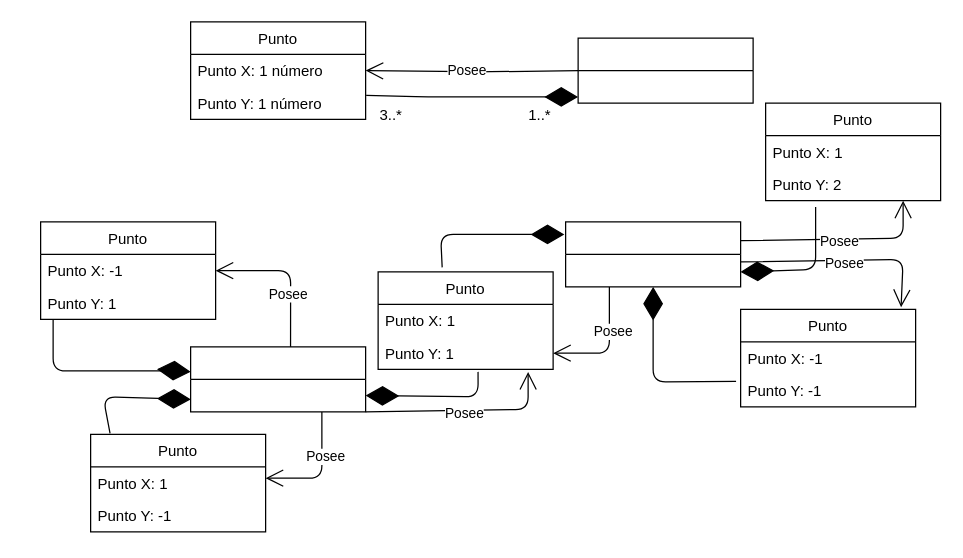
Image size: 963x558. Some labels were removed from this diagram. Each missing label, with the box of its shape:
Polígono: (577, 37, 753, 103)
Triángulo1: (189, 346, 366, 412)
Triángulo2: (564, 221, 741, 287)
